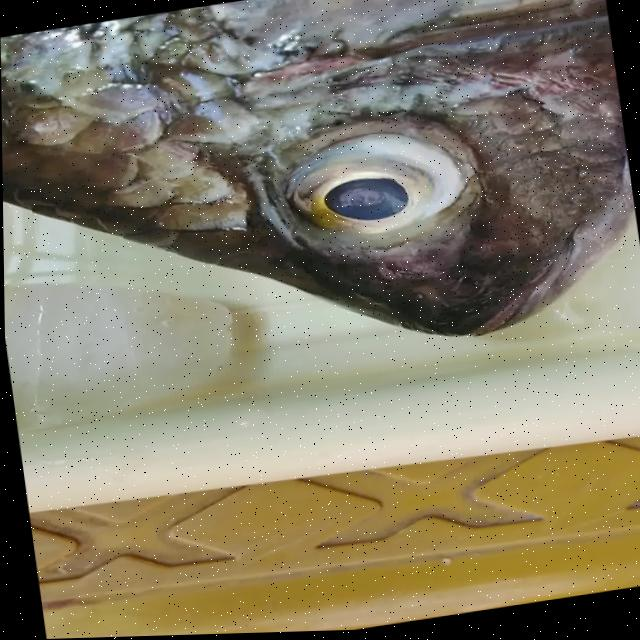Fresh: (208, 87, 541, 288)
